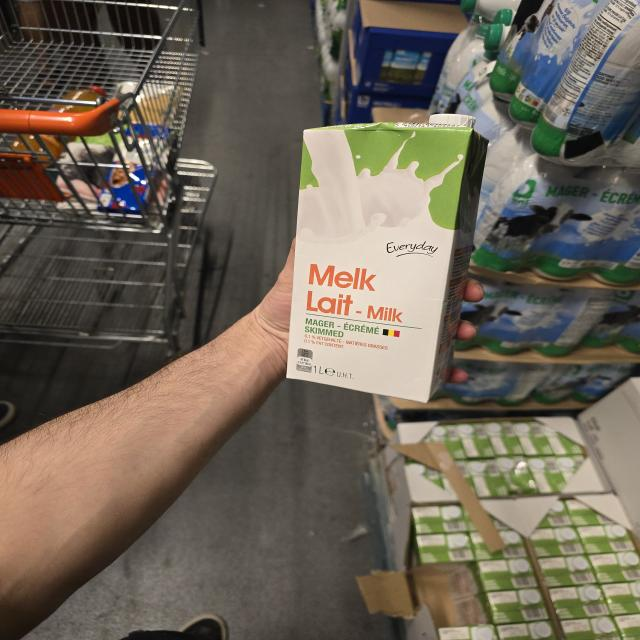Milk: (286, 113, 492, 401)
